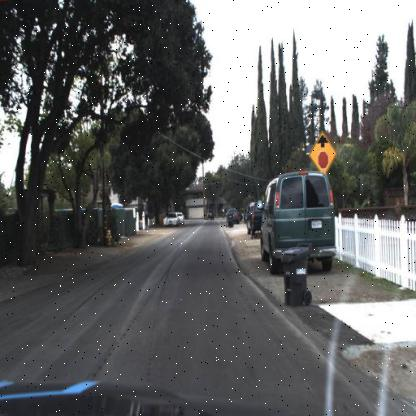car: (256, 170, 340, 273), (244, 197, 265, 239), (227, 206, 242, 225), (163, 213, 180, 227), (203, 206, 215, 222), (178, 211, 186, 225)
